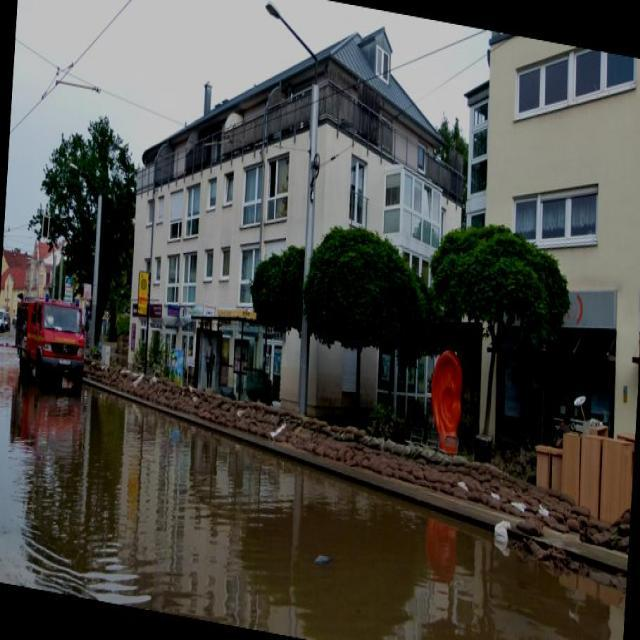flood: (0, 363, 633, 639)
